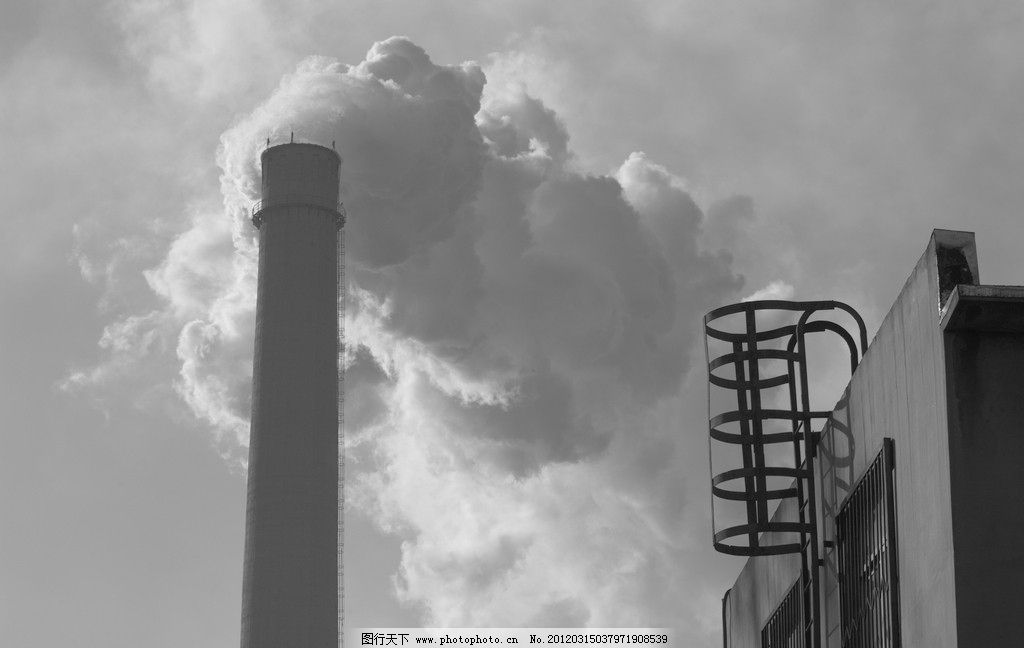dust: (159, 16, 628, 233)
